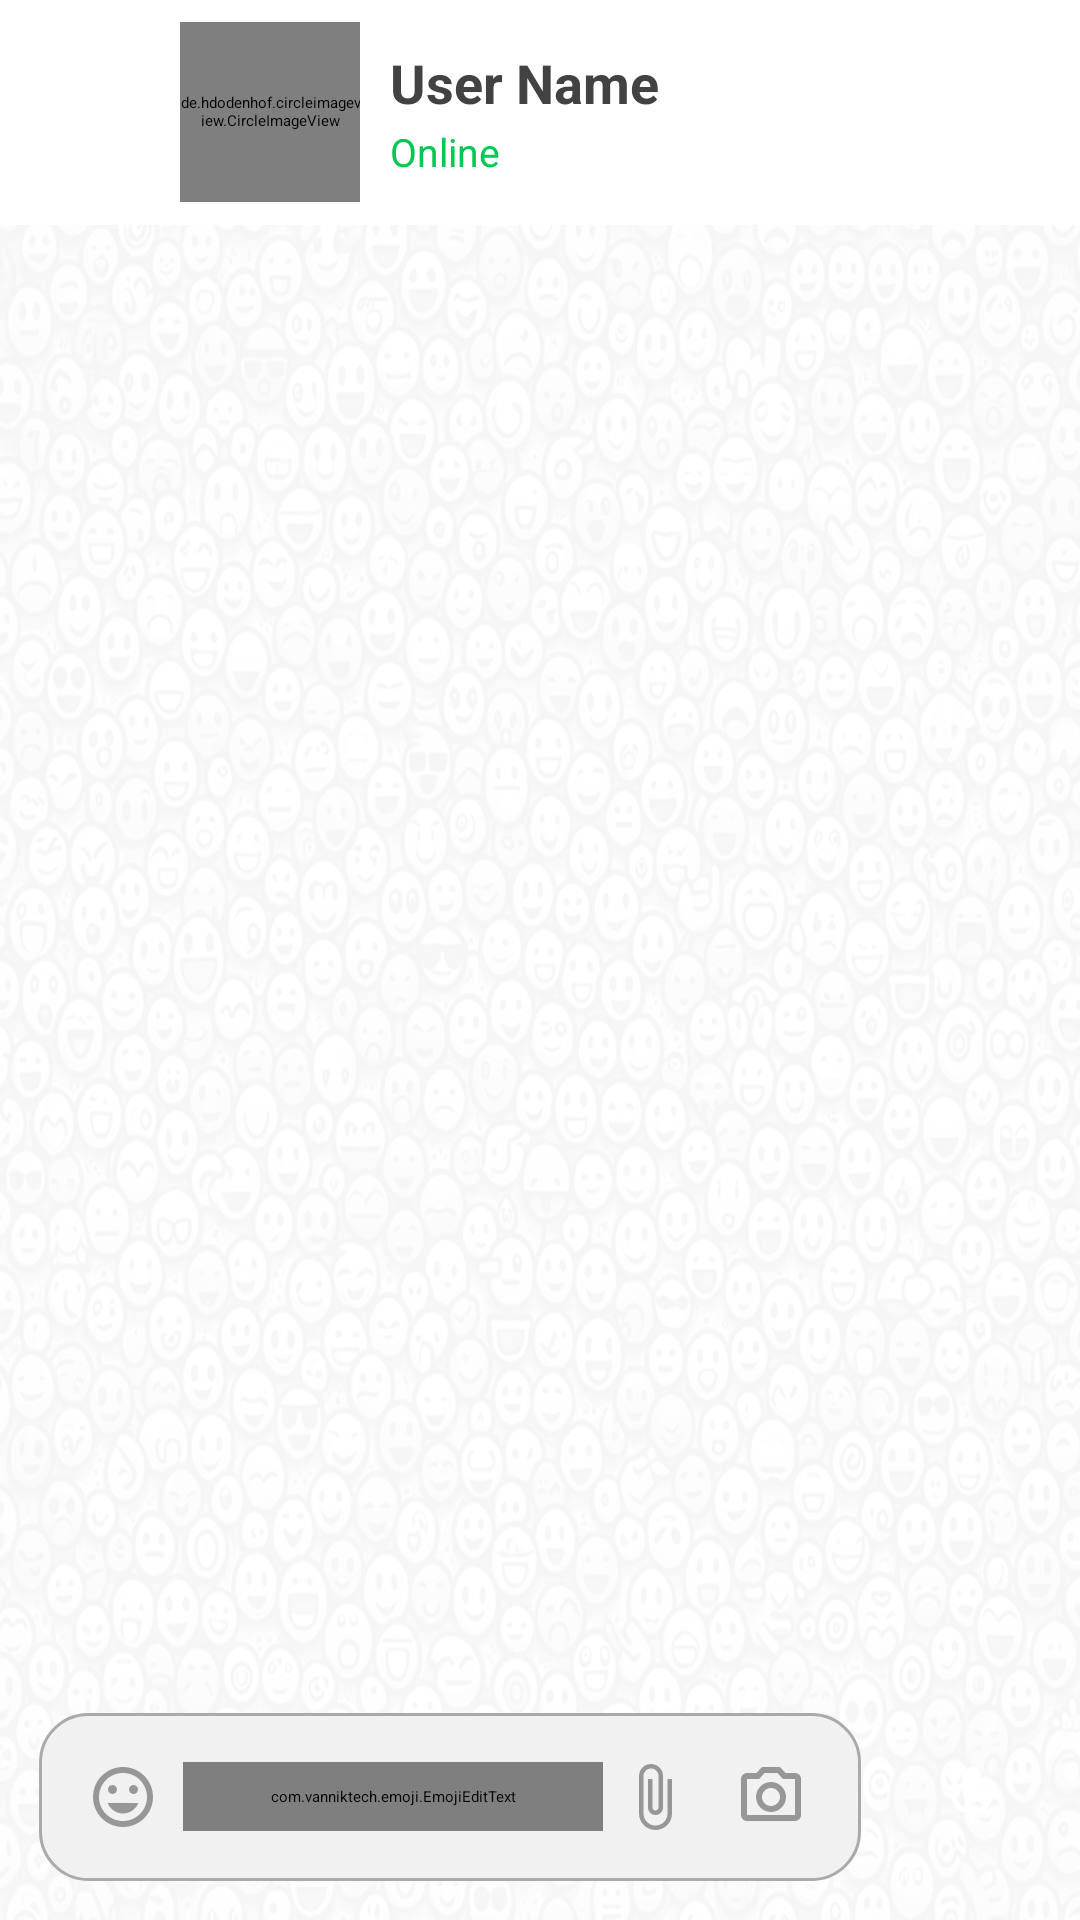

Screen size 1080 × 1920. Icon name, then its box in pixels as (x1, y1, x2, y2):
attach file: (639, 1764, 672, 1830)
camera: (741, 1767, 801, 1821)
